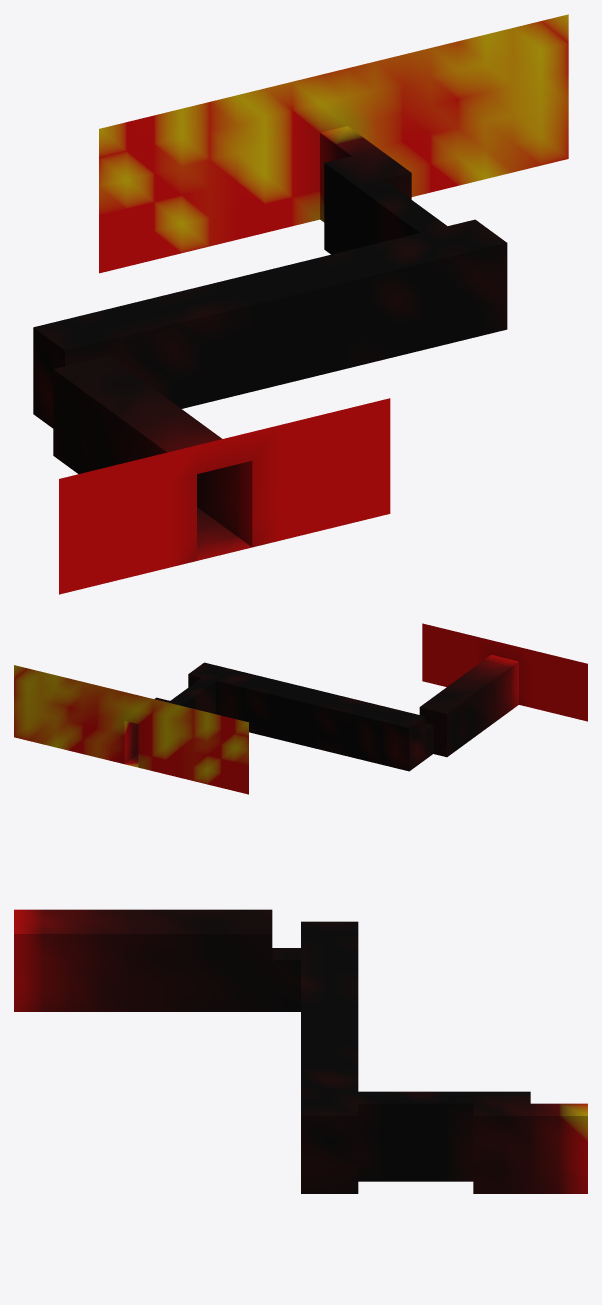
File: transition_2.obj
The picture shows the model from 3 angles, top to bottom: view 1: azimuth 30°, elevation 25°; view 2: azimuth 150°, elevation 25°; view 3: azimuth 270°, elevation 25°; orthographic projection. The views are drawn at different scales.
Parts seen in each view (by area): view 1: ForestPart, CastlePart; view 2: ForestPart, CastlePart; view 3: ForestPart, CastlePart.
Part boxes in pixels (x1,y1,x2,y2): ForestPart: (33,14,568,428); CastlePart: (53,355,390,594); ForestPart: (14,662,425,794); CastlePart: (419,623,587,759); ForestPart: (301,921,587,1193); CastlePart: (14,909,300,1011).
Bounding box in the file's own units: 30 × 5 × 20.
